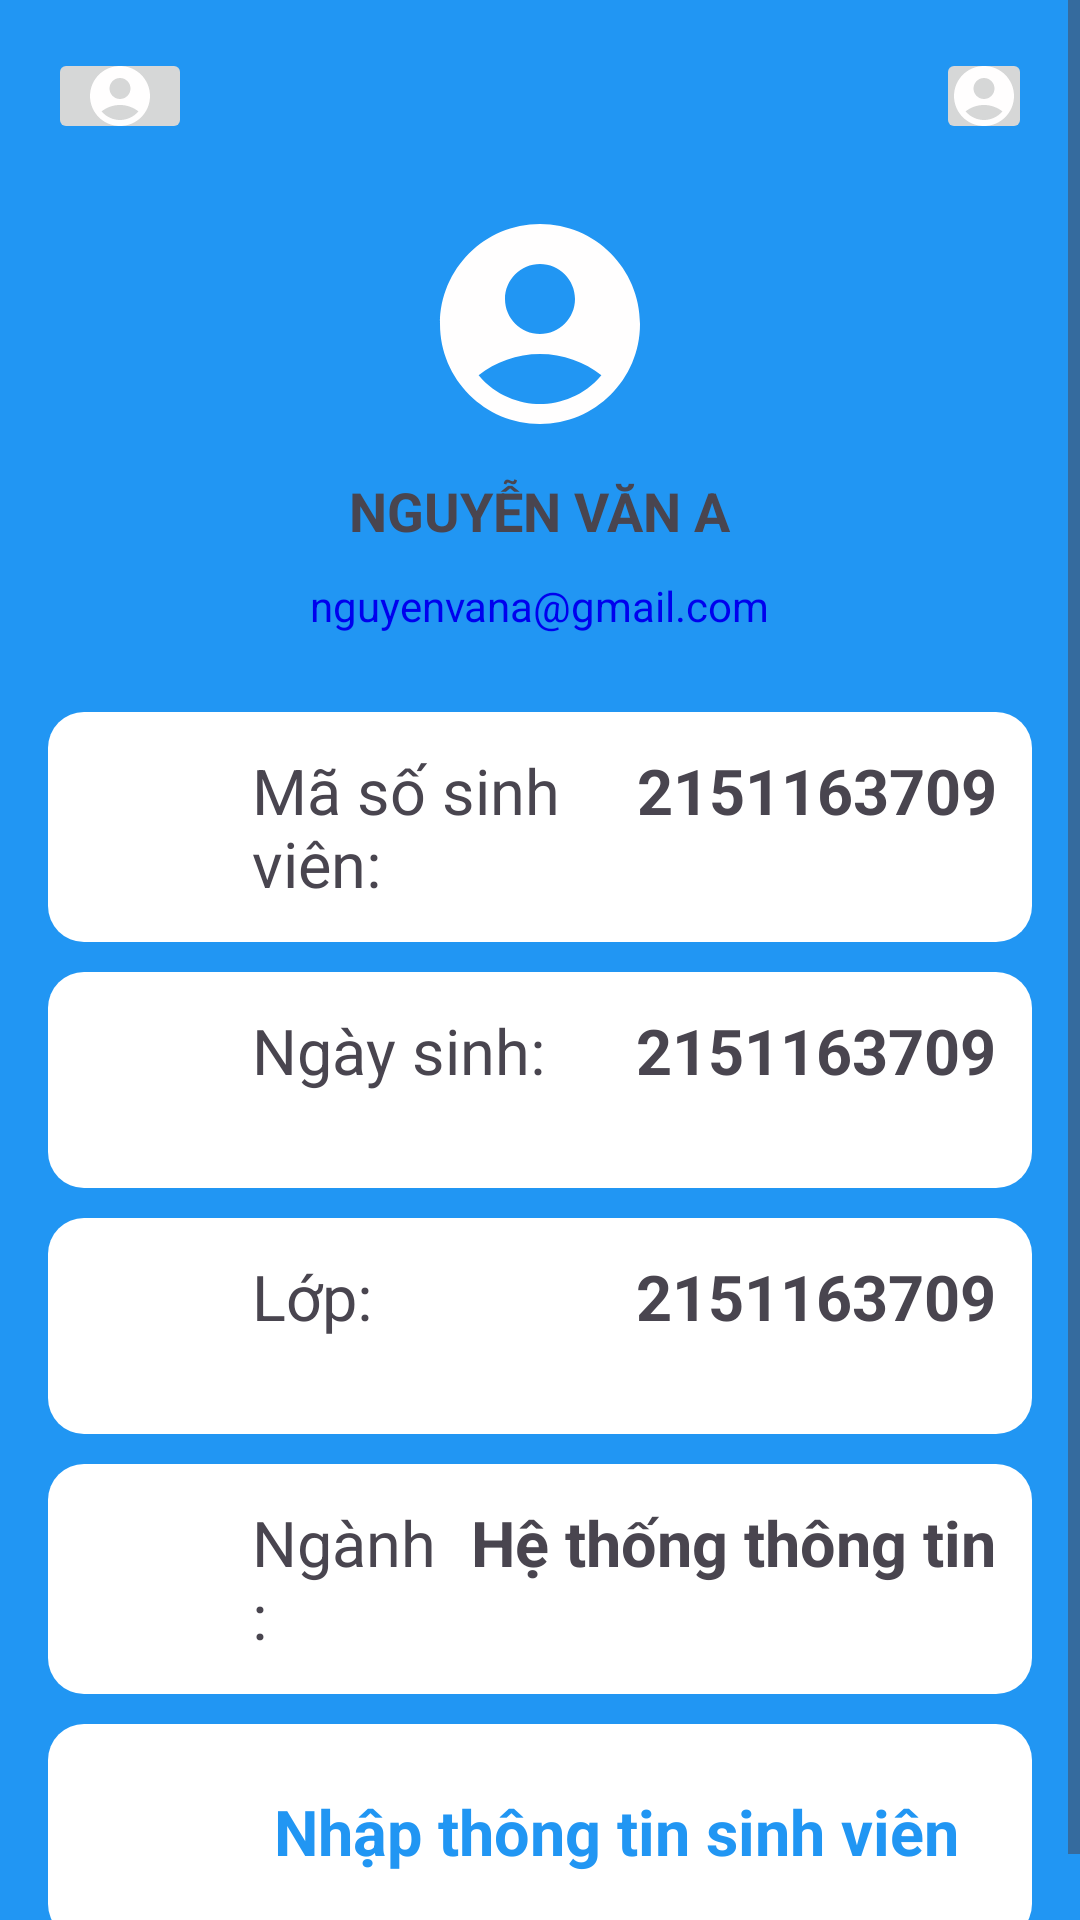

Icon bounding boxes for this 1080*1920 phone screenshot, format {"x1": x1, "y1": y1, "x2": x2, "y2": y2}:
user: {"x1": 60, "y1": 66, "x2": 180, "y2": 126}, {"x1": 948, "y1": 66, "x2": 1020, "y2": 126}, {"x1": 440, "y1": 224, "x2": 640, "y2": 424}
